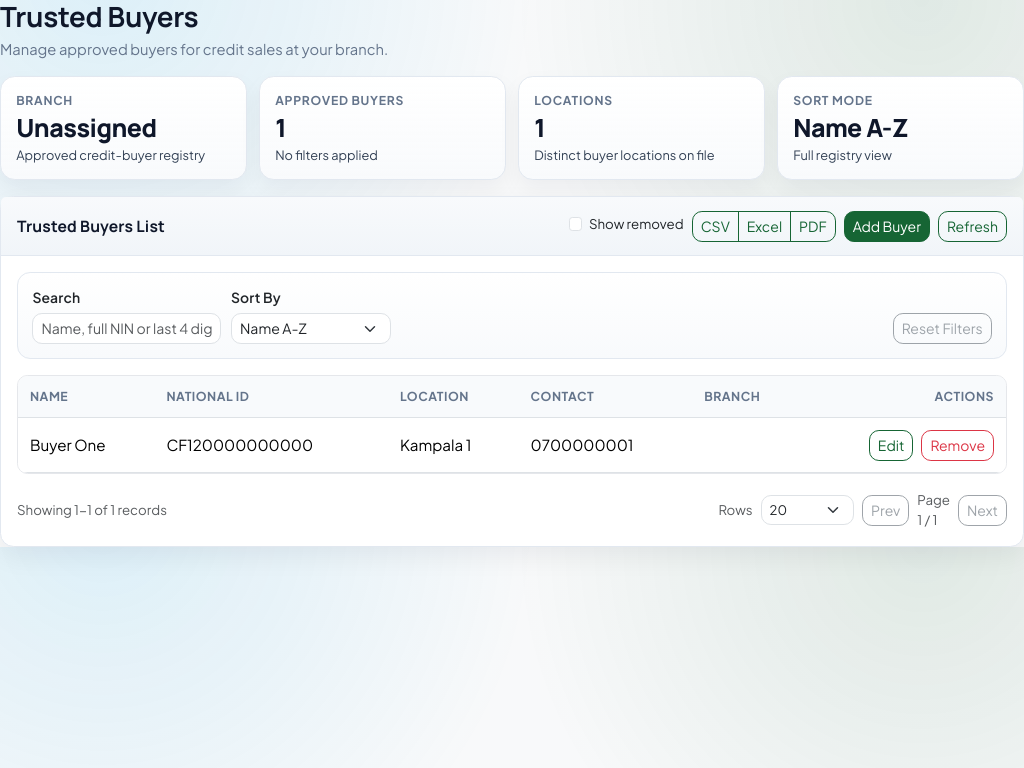
Forms Validation E2E › blocks trusted-buyer submission when NIN format is invalid
This screenshot has width=1024, height=768.
Step 1. Click the button "Add Buyer" → (887, 226), box [844,210,930,242]
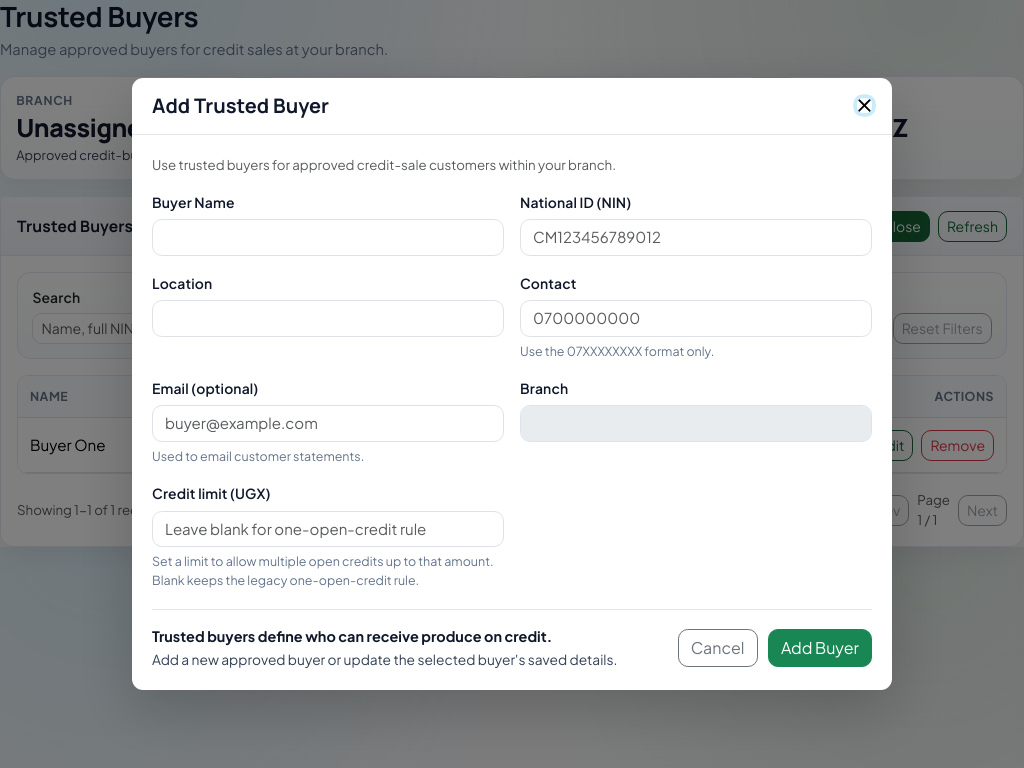
Step 2. Type "Buyer 3" into the field with id "trusted-buyer-name" → (328, 237), box [152,219,504,256]
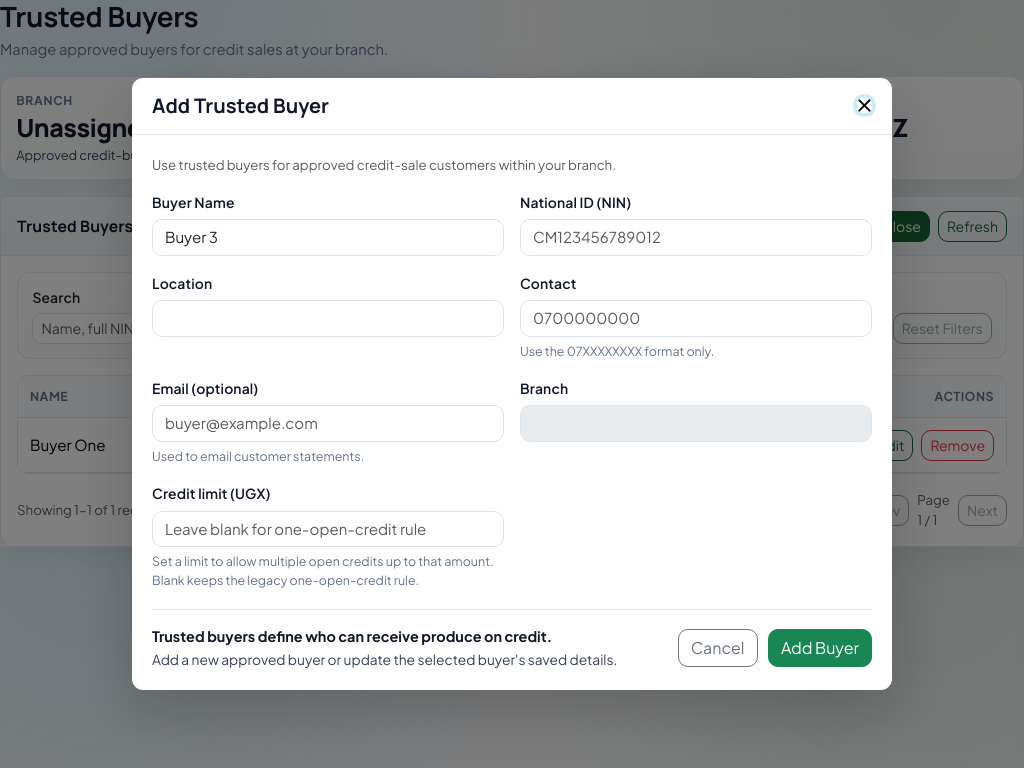
Step 3. Type "AB123456789012" into the field with id "trusted-buyer-nin" → (696, 237), box [520,219,872,256]
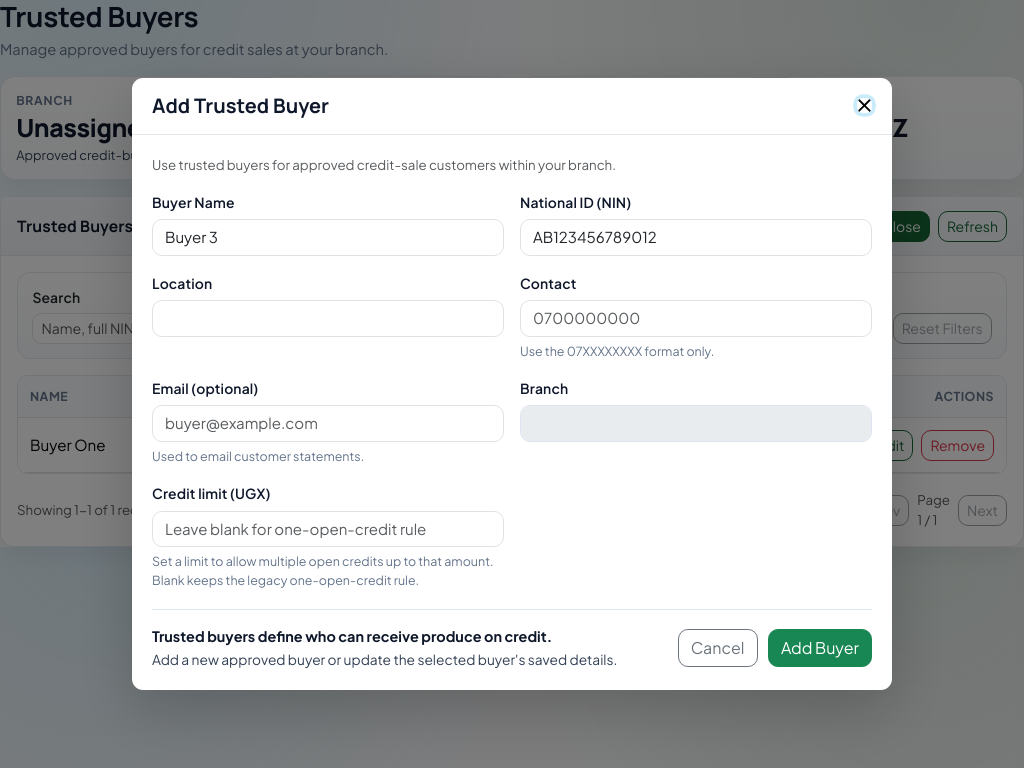
Step 4. Type "Kampala 2" into the field with id "trusted-buyer-location" → (328, 318), box [152,300,504,337]
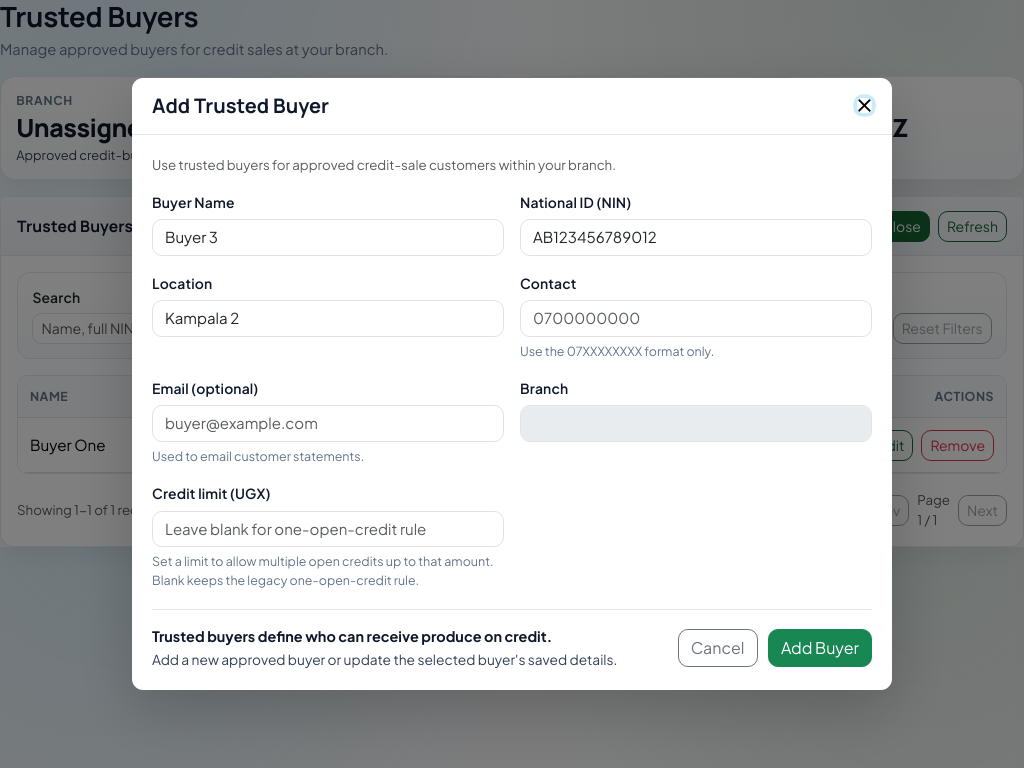
Step 5. Type "+256700000003" into the field with id "trusted-buyer-contact" → (696, 318), box [520,300,872,337]
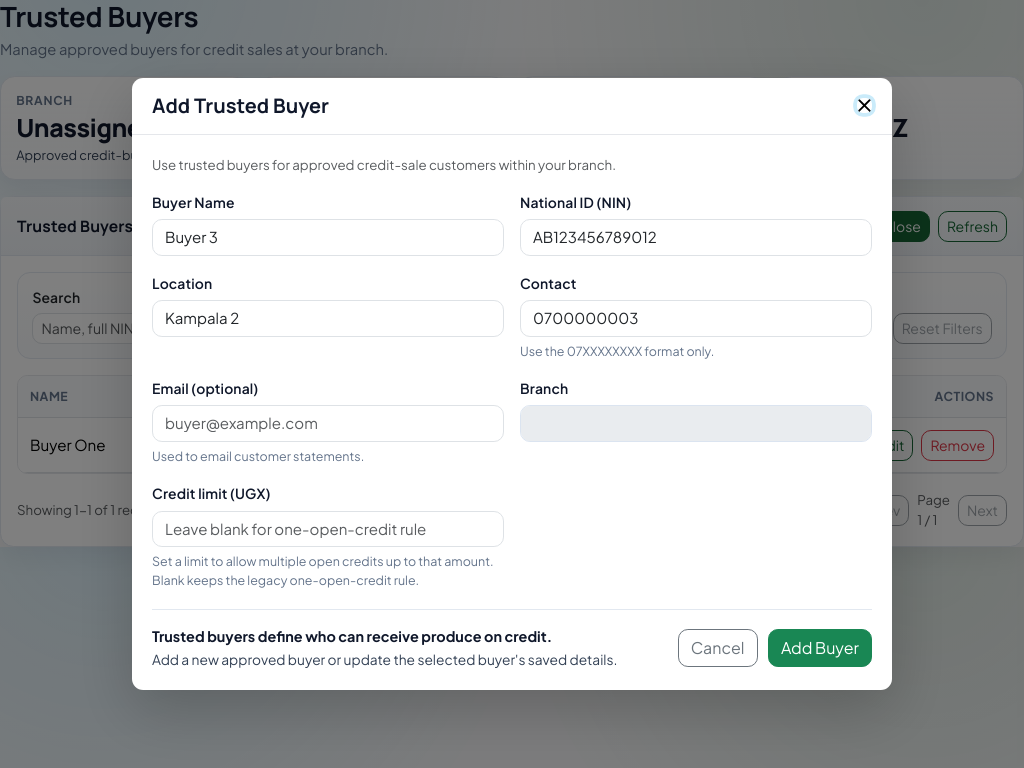
Step 6. Submit the form, box [152,175,872,670]
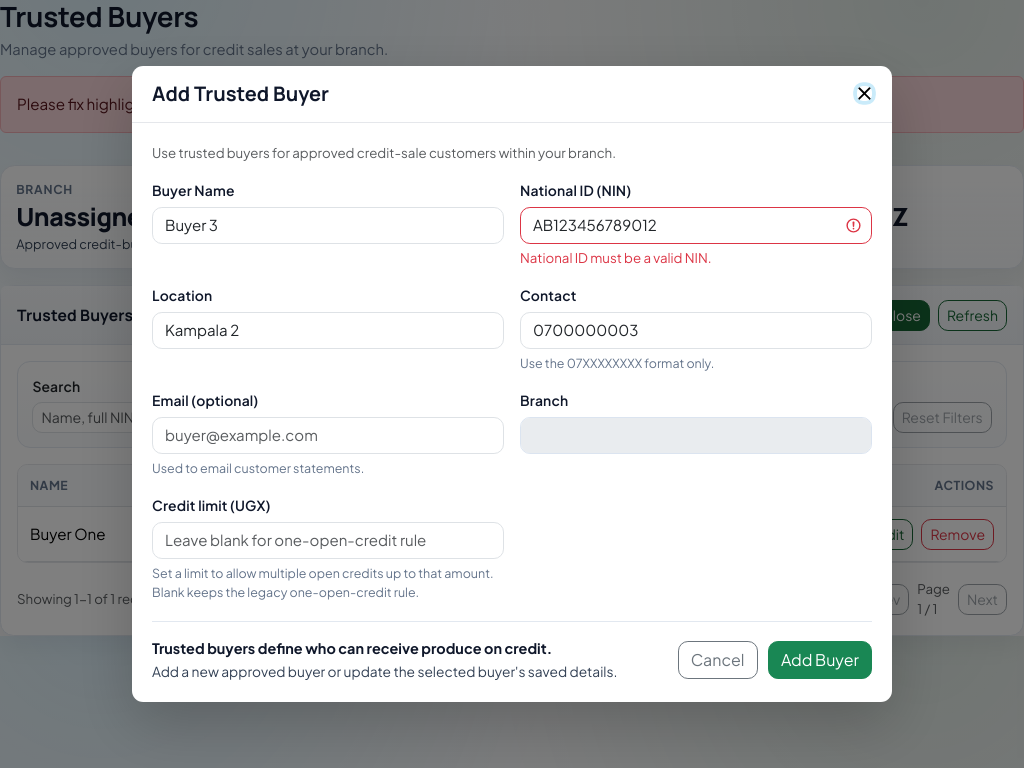
Now the text "National ID must be a valid NIN." is shown, box [520,249,712,266]
